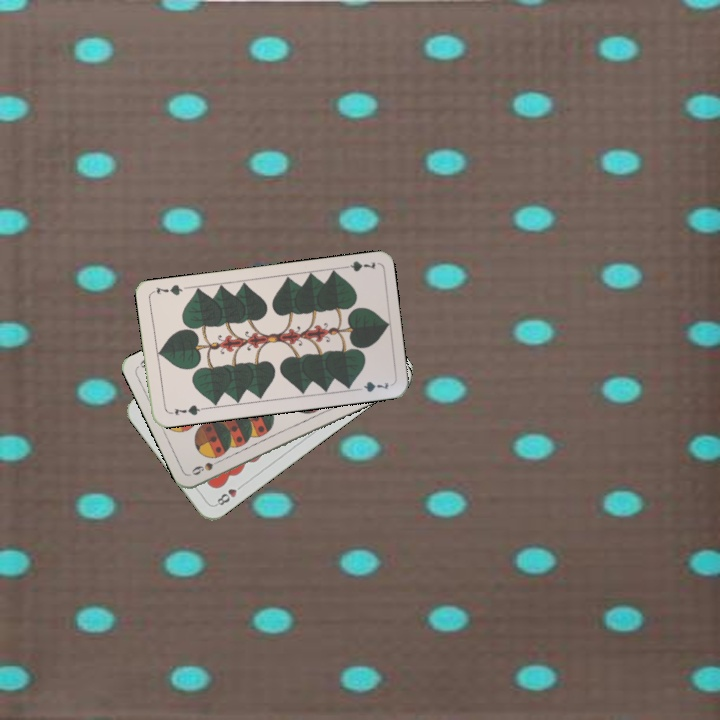G7: (165, 401, 206, 418), (337, 257, 378, 274)
H8: (211, 480, 246, 508)
S9: (187, 454, 226, 478)
